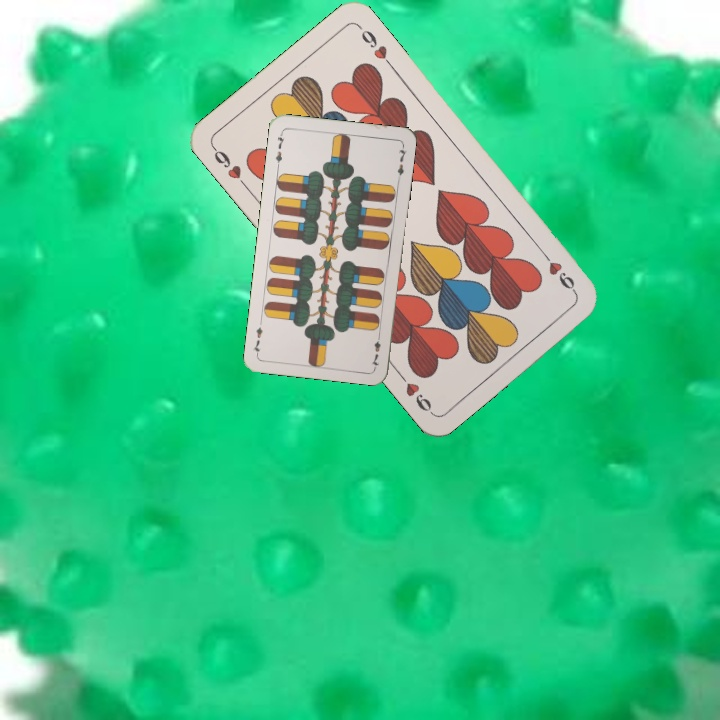E7: (367, 329, 383, 369), (272, 128, 287, 169)
H9: (208, 142, 251, 191), (537, 247, 579, 297)
